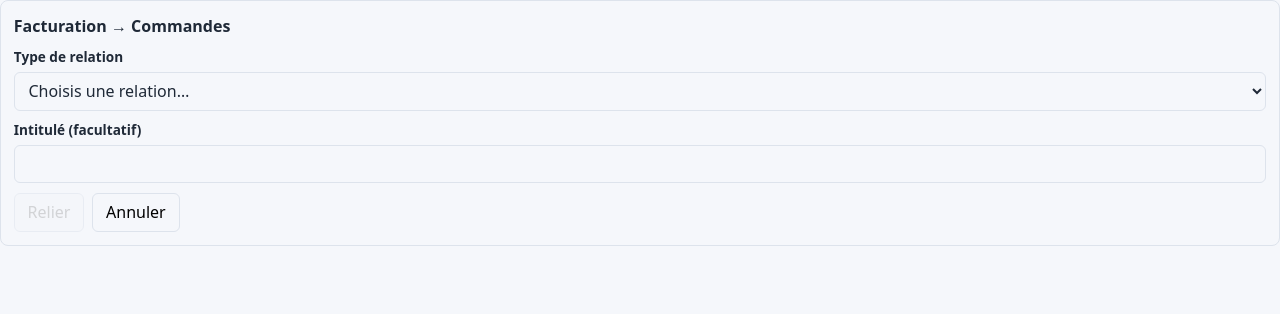
Test: LinkPopover › shows the API's refusal instead of closing
Select "sert" in the dropdown labelled "Type de relation" at (640,91), box [14,72,1266,111]
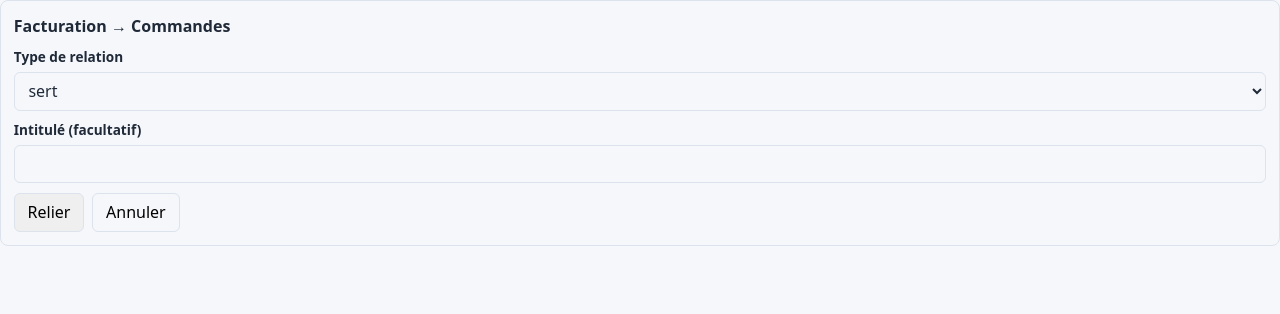
Click the button "Relier" at (49,212), box [14,193,84,232]
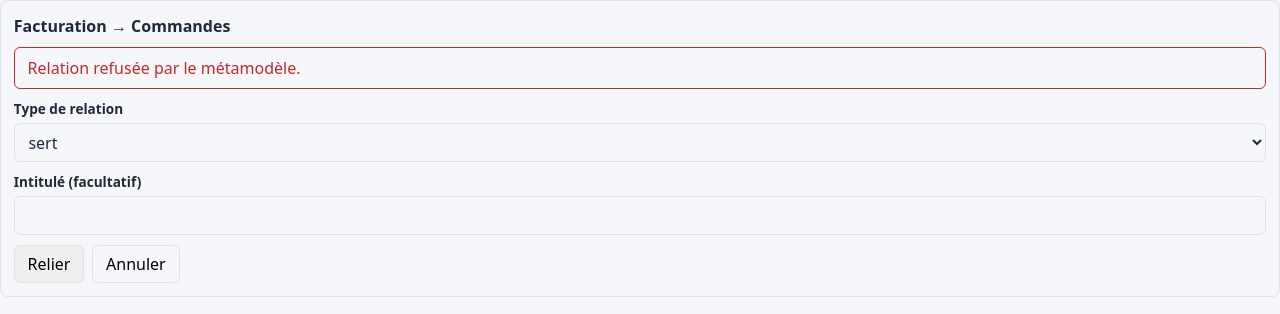
Now the message reads "Relation refusée par le métamodèle.", box [28,57,300,79]
